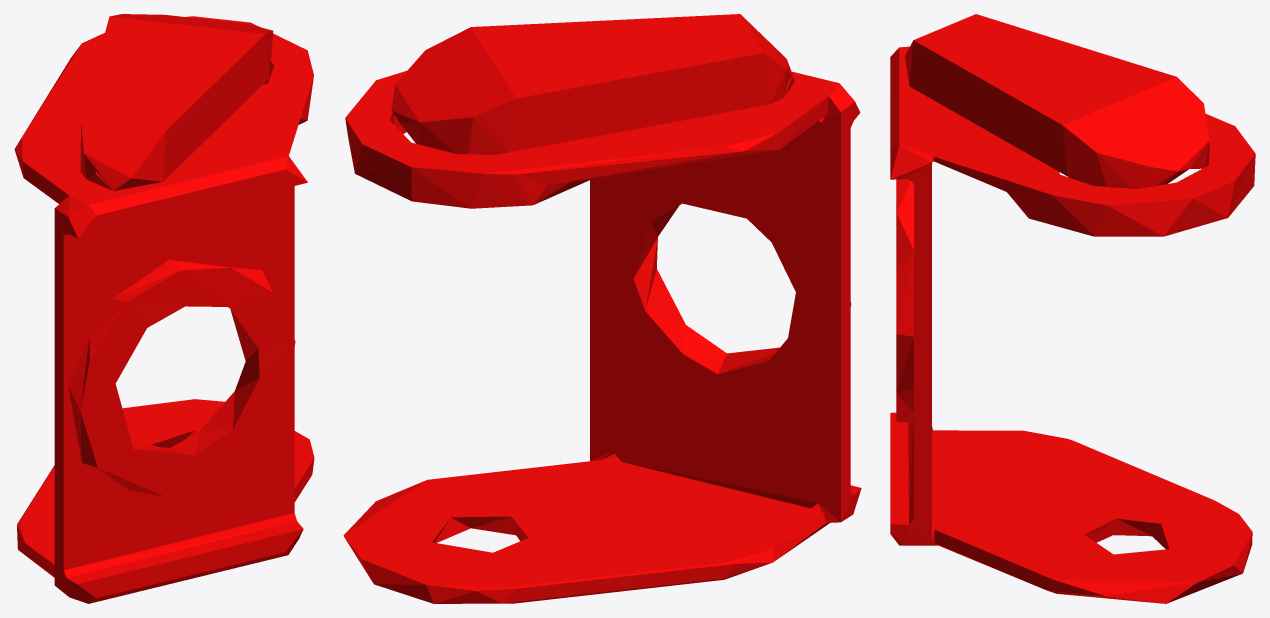
The model's file is warec-RR_HIP_Y-visual-0.dae.
The picture shows the model from 3 angles, left to right: view 1: azimuth 30°, elevation 25°; view 2: azimuth 150°, elevation 25°; view 3: azimuth 270°, elevation 25°; orthographic projection. The views are drawn at different scales.
Parts seen in each view (by area): view 1: root; view 2: root; view 3: root.
Part boxes in pixels (x1=…): root: x1=14, y1=14, x2=314, y2=603; root: x1=343, y1=14, x2=861, y2=603; root: x1=890, y1=14, x2=1255, y2=603.
Bounding box in the file's own units: 0.1331 × 0.1665 × 0.1229.
